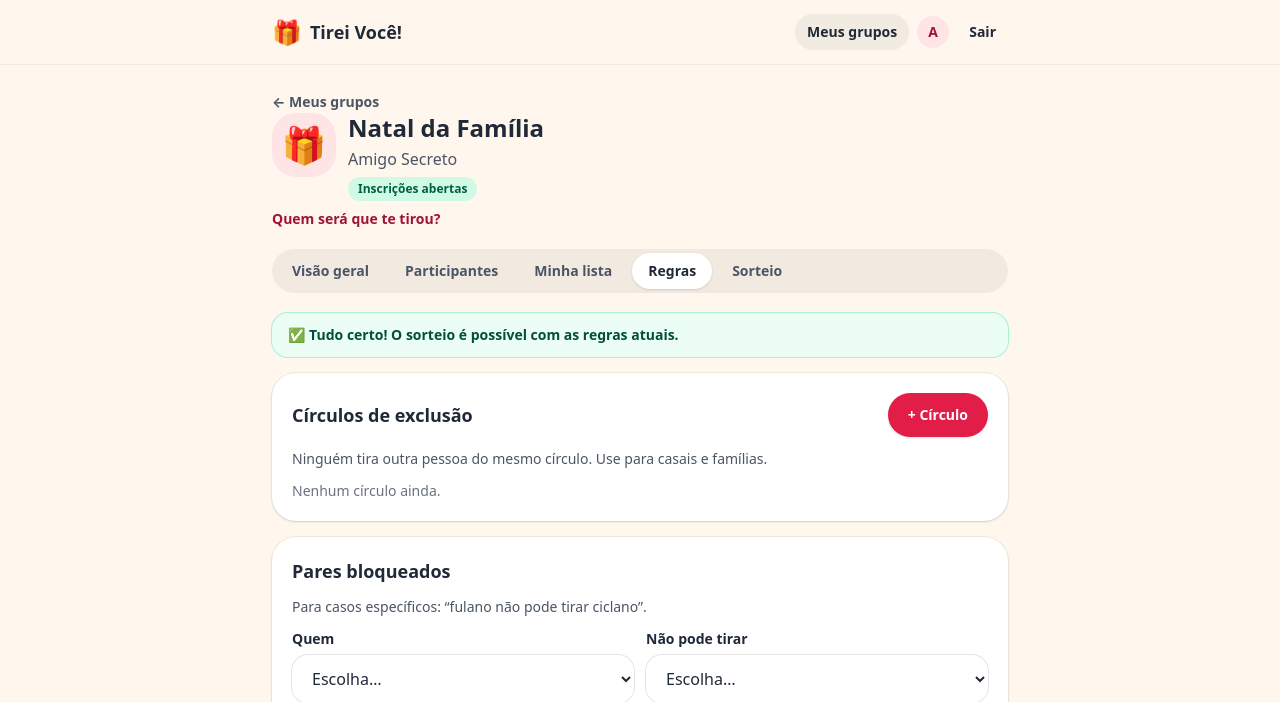
Test: regras: validação ao vivo e criação de círculo
The image size is (1280, 702).
Expected: the text "✅ Tudo certo! O sorteio é possível com as regras atuais." is shown, left=288, top=325, right=679, bottom=344
Click the button "+ Círculo" at (938, 415), box left=888, top=393, right=988, bottom=437
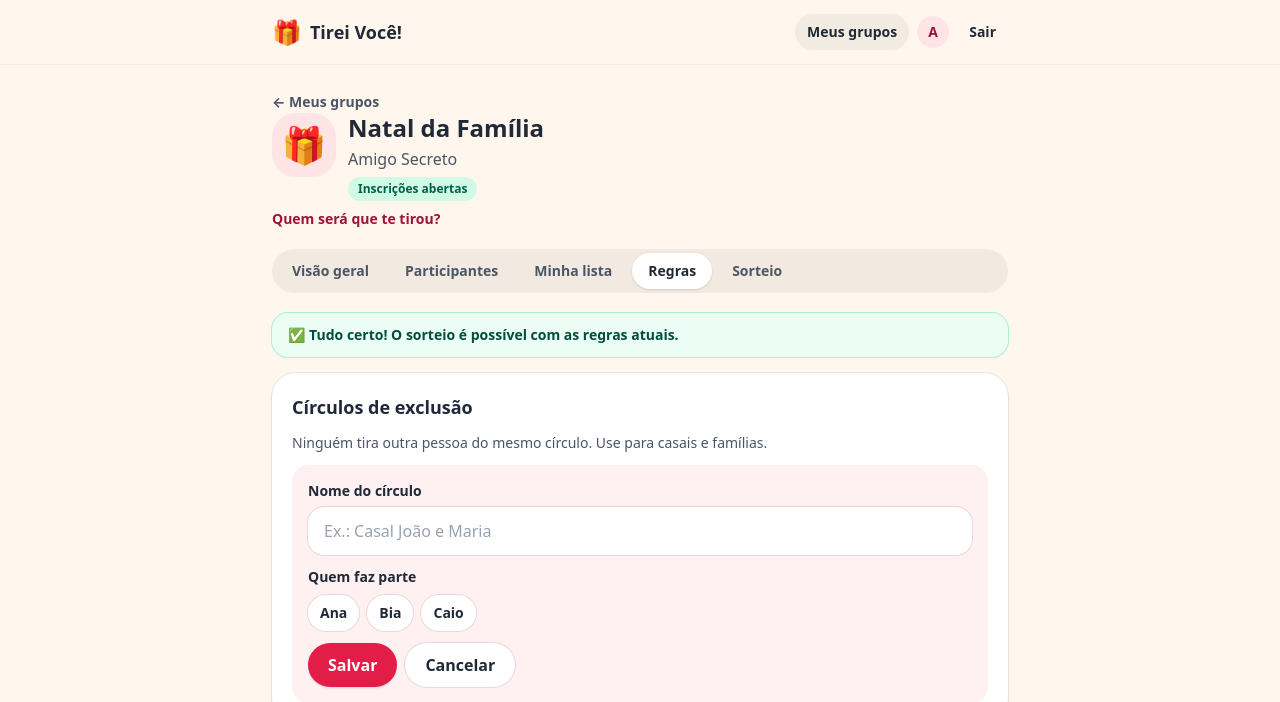
Type "Casal" into the field labelled "Nome do círculo" at (640, 531), box left=308, top=507, right=972, bottom=555
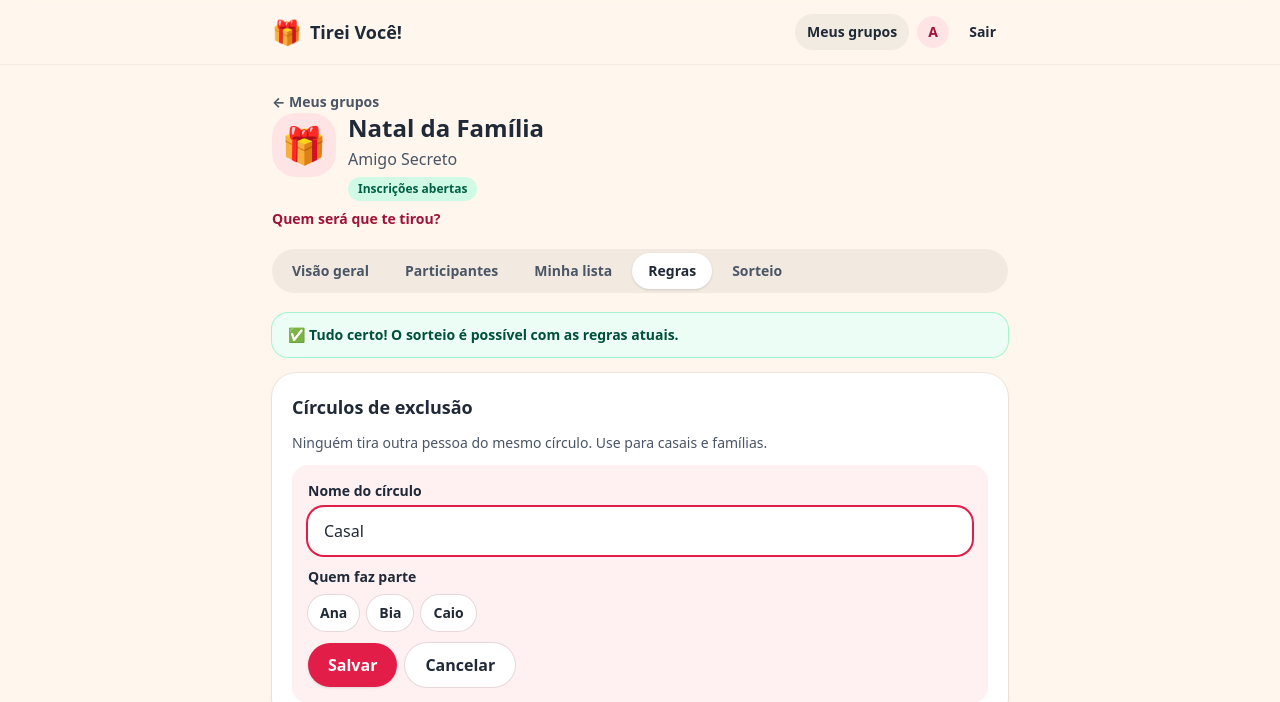
Click the checkbox "Ana" at (334, 613), box left=308, top=595, right=359, bottom=631
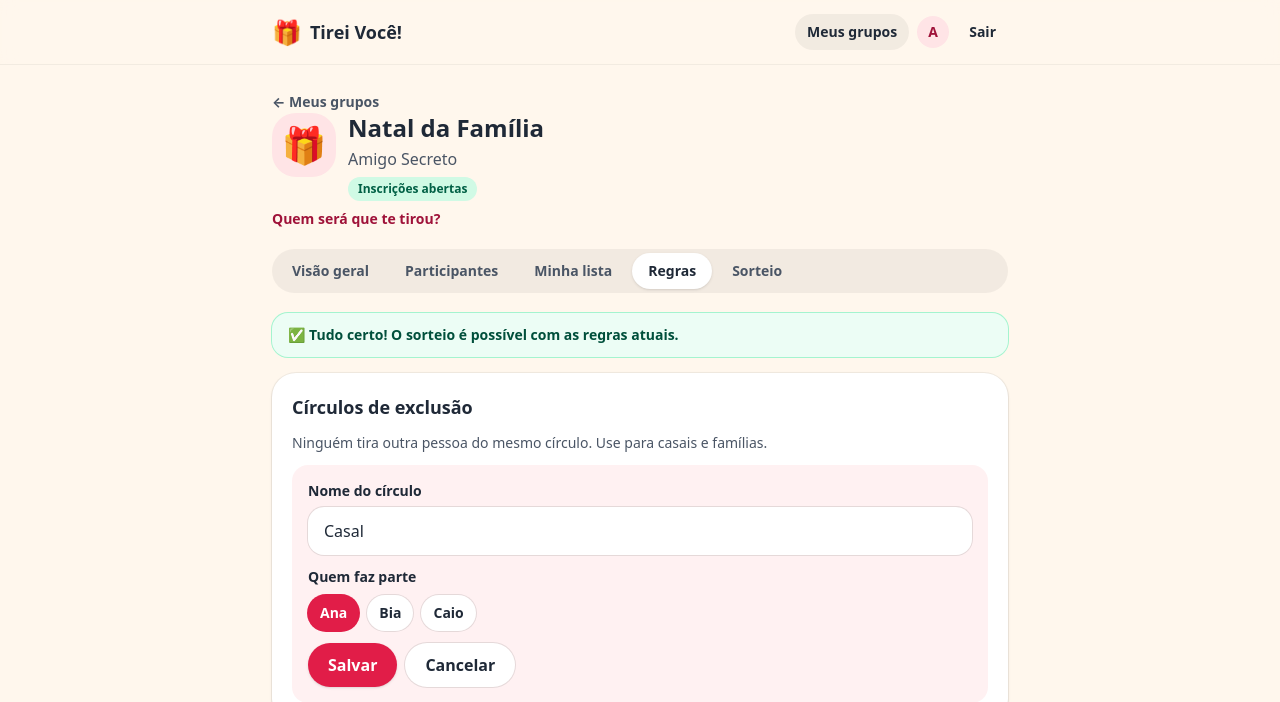
Click the checkbox "Bia" at (390, 613), box left=367, top=595, right=413, bottom=631
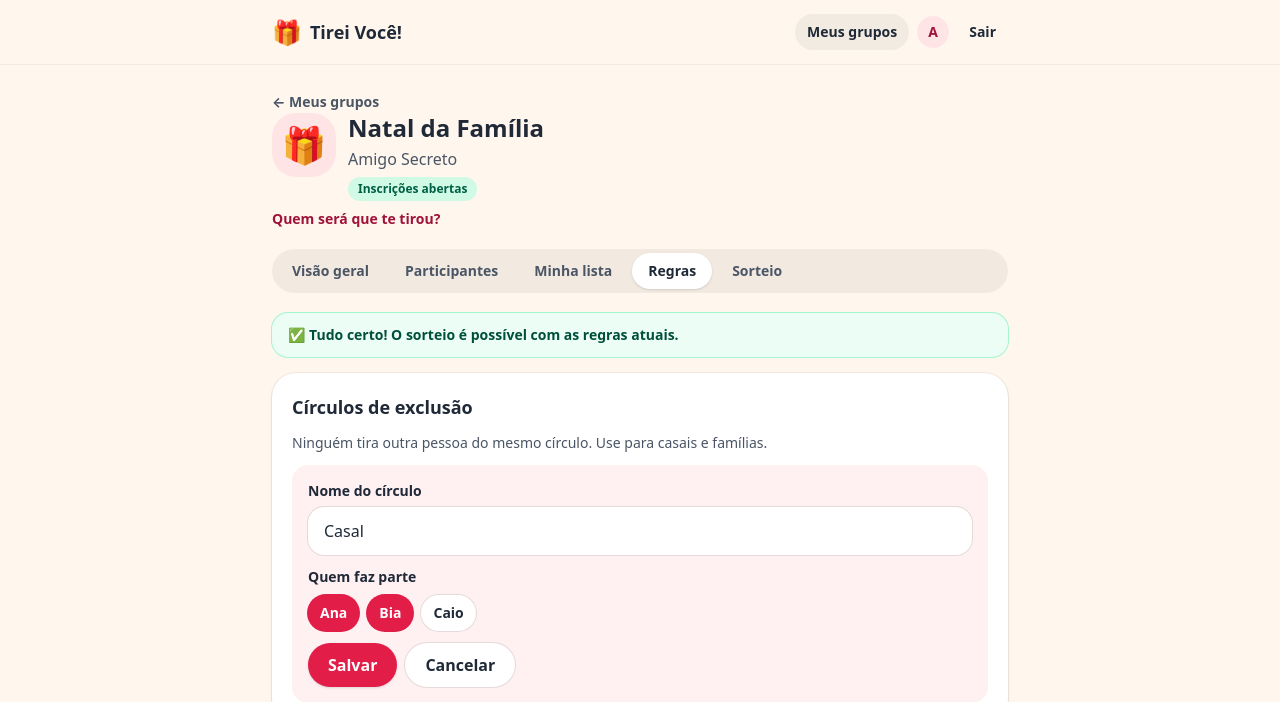
Click the button "Salvar" at (353, 665), box left=308, top=643, right=397, bottom=687
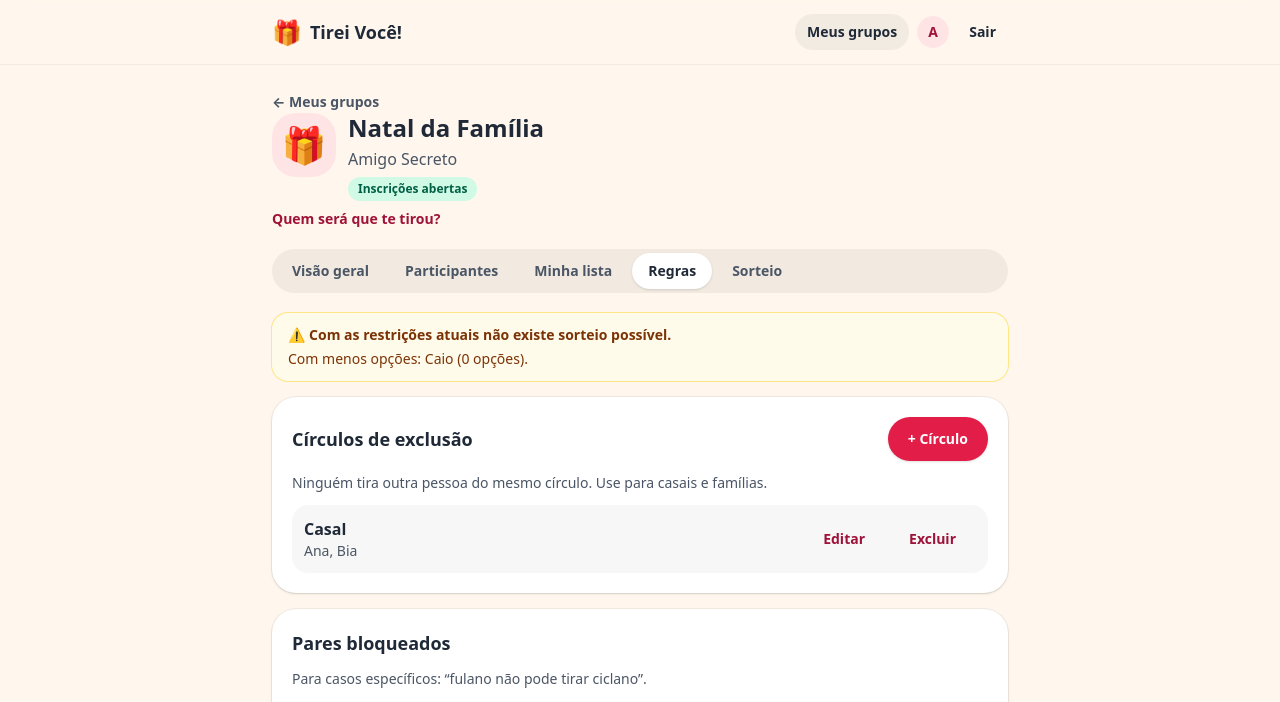
Now the text "⚠️ Com as restrições atuais não existe sorteio possível." is shown, box left=288, top=325, right=671, bottom=344
Now the text "Com menos opções: Caio (0 opções)." is shown, box left=288, top=349, right=528, bottom=368
